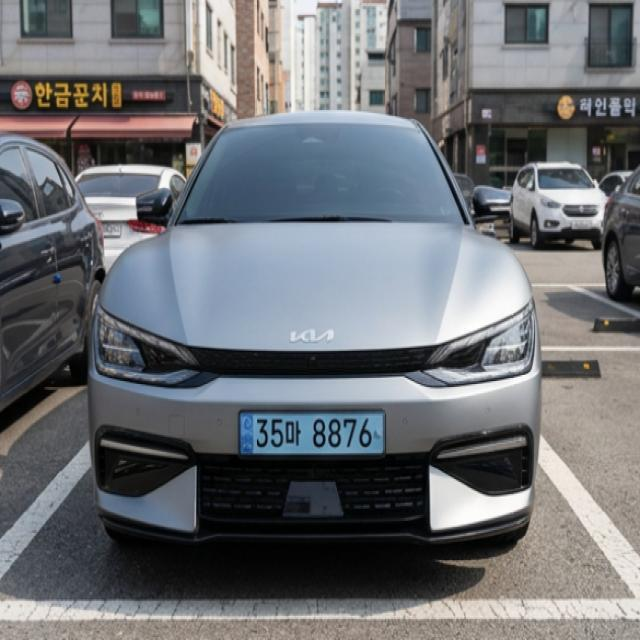car: (224, 401, 399, 474)
carev: (371, 407, 391, 457), (235, 408, 254, 458)
